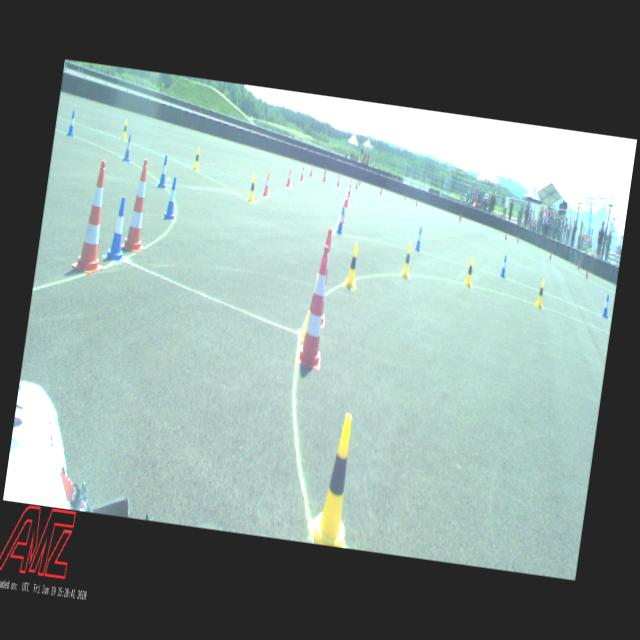blue_cone: (104, 195, 132, 263), (163, 176, 181, 220), (157, 155, 170, 189), (122, 134, 134, 162), (66, 110, 78, 137), (336, 207, 346, 235), (414, 226, 424, 252), (601, 294, 611, 319), (499, 254, 508, 278)
large_orange_cone: (70, 158, 118, 276), (296, 244, 337, 372), (120, 158, 156, 255), (305, 227, 338, 330)
orange_cone: (262, 172, 272, 196), (340, 200, 348, 224), (286, 168, 292, 186), (344, 189, 350, 207), (322, 168, 327, 182), (309, 164, 314, 177), (300, 166, 304, 182), (336, 174, 341, 186), (348, 184, 352, 198)
yellow_cone: (308, 412, 364, 548), (300, 272, 319, 340), (343, 241, 363, 290), (400, 243, 414, 279), (464, 256, 476, 288), (536, 280, 548, 308), (247, 174, 258, 203), (192, 146, 202, 172), (120, 119, 130, 141)
